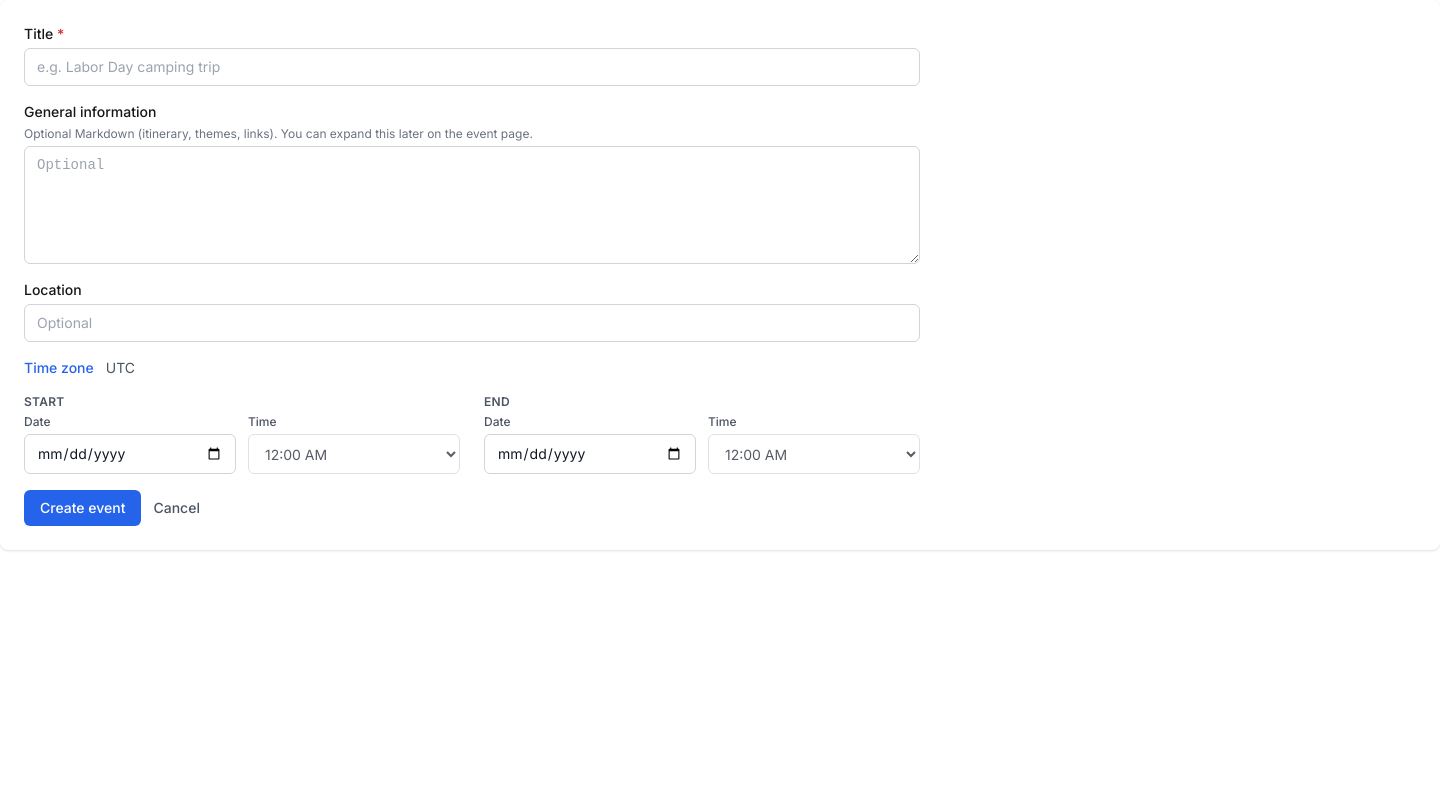
Test case: CreateEventForm › shows validation error from action
This screenshot has width=1440, height=810.
In the field labelled "Title *": x=472, y=67 [24,48,920,86], type "T"
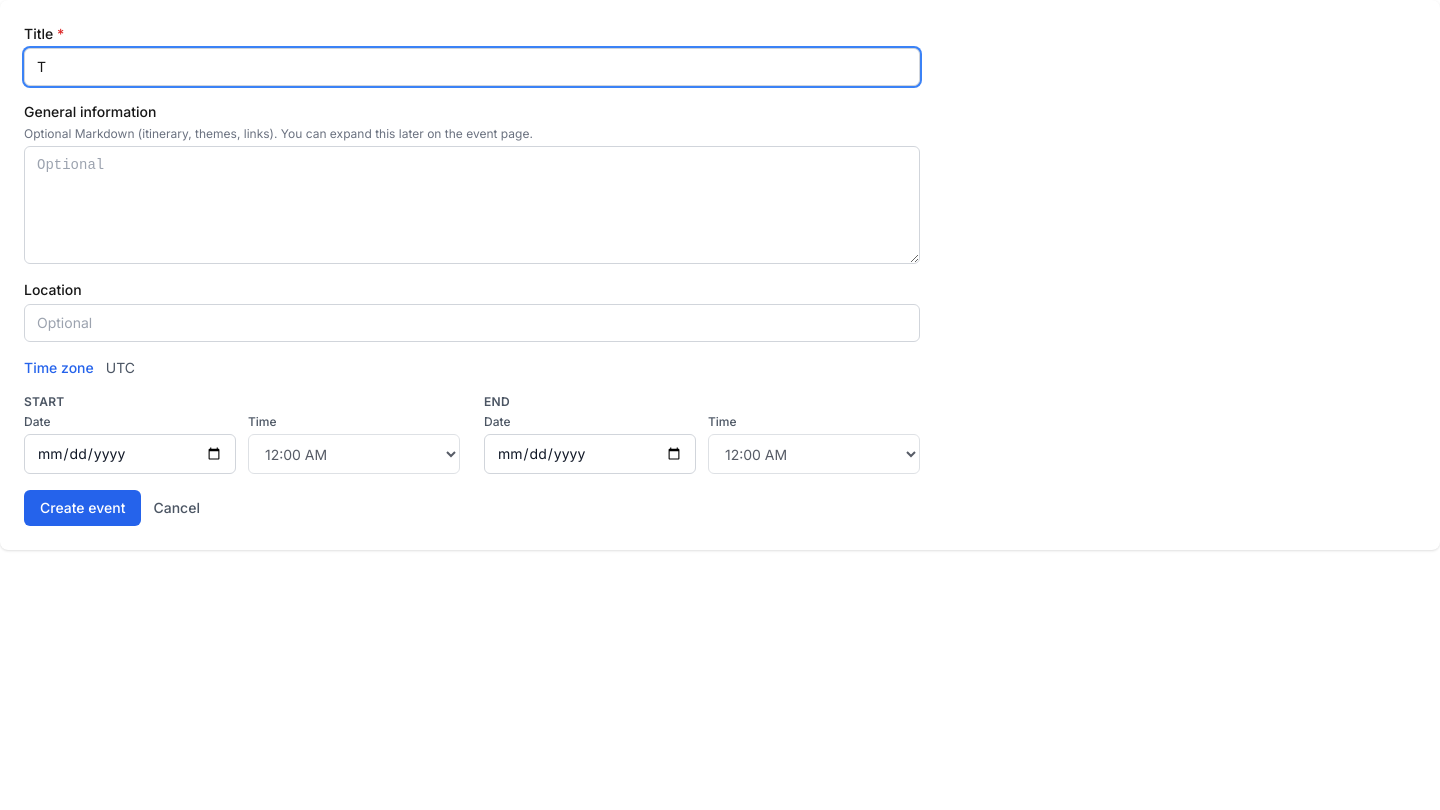
Click the button "Create event": x=83, y=508 [24,490,142,526]
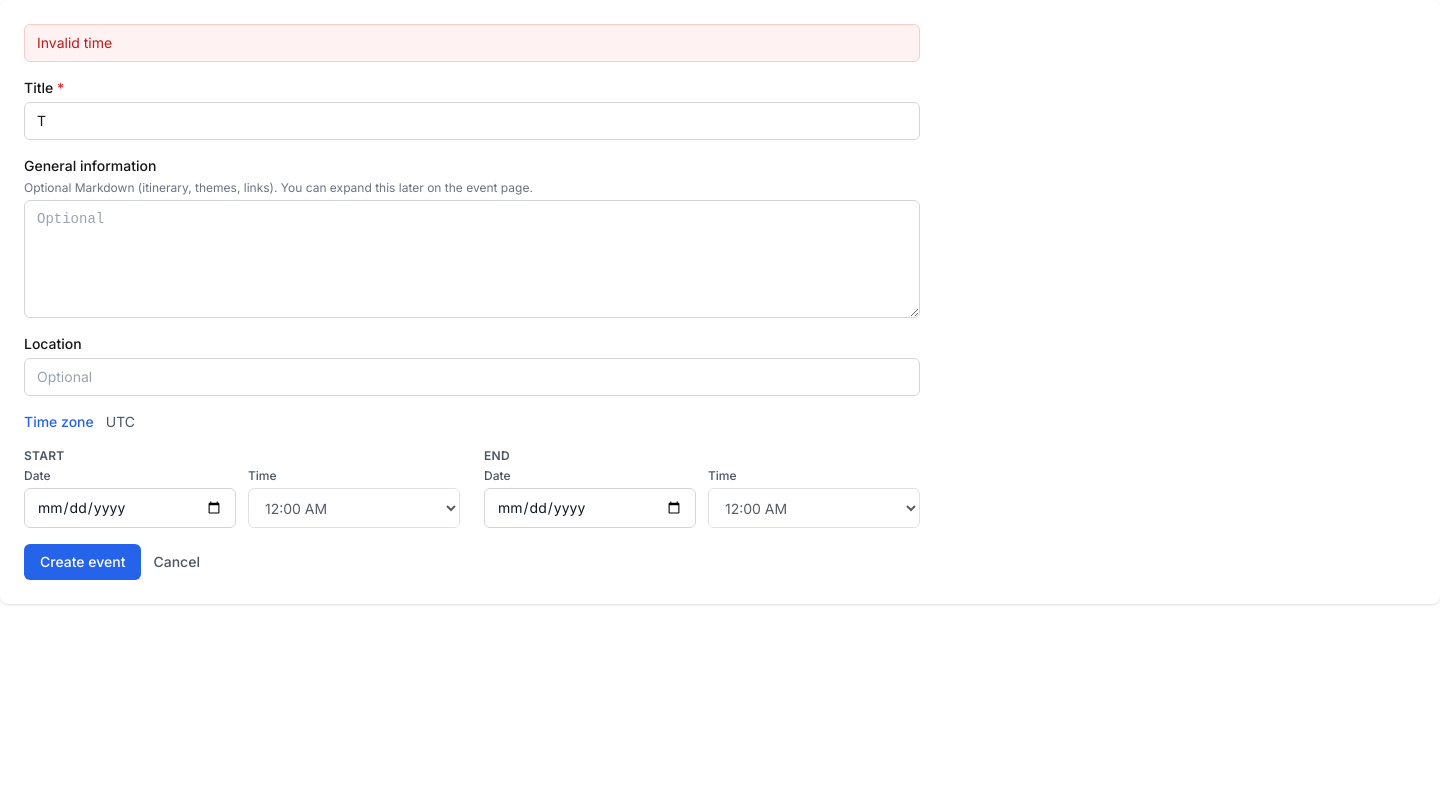
Expected: the message reads "Invalid time", [37,34,112,51]
